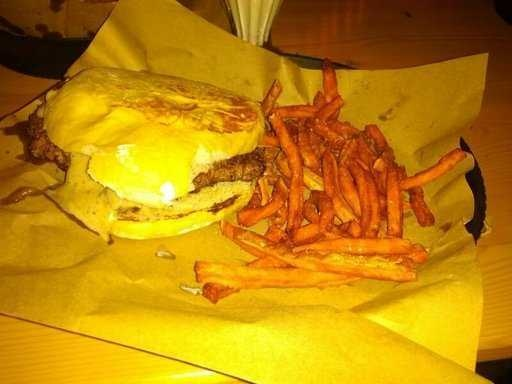hamburger: (18, 32, 274, 232)
